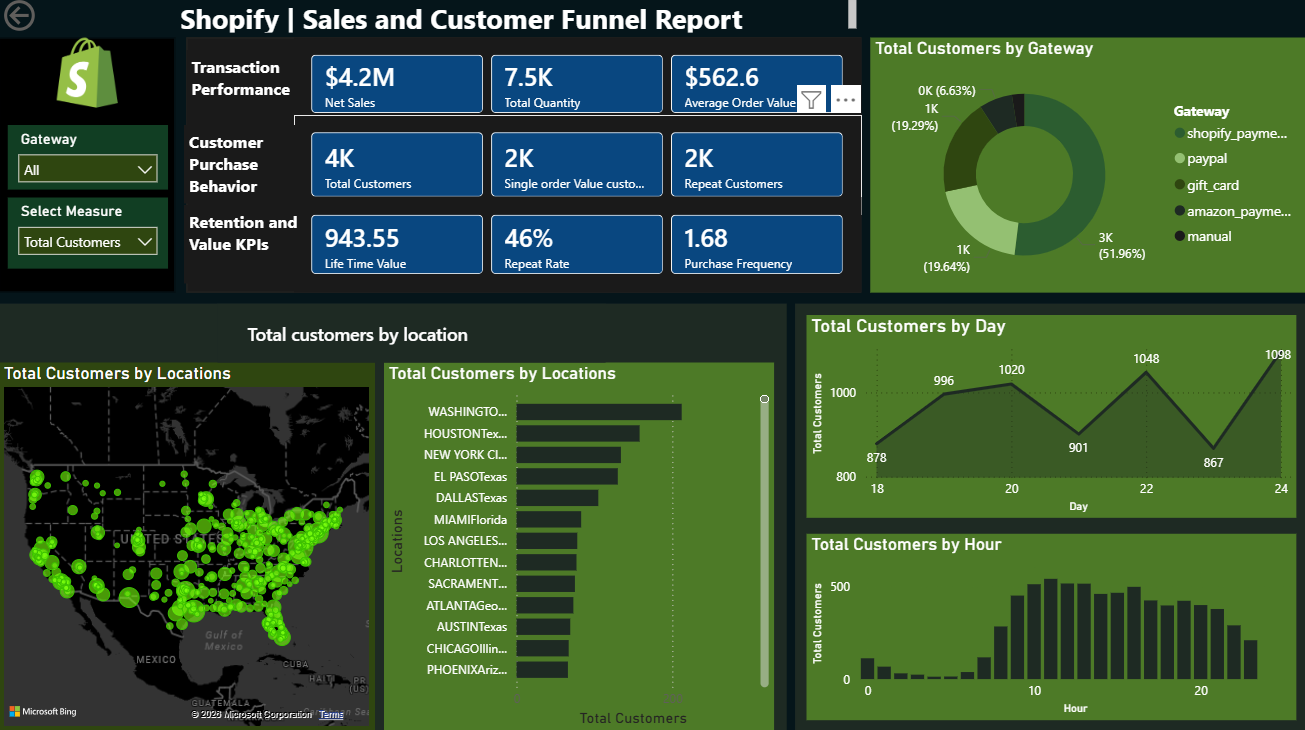

The page's visual inventory and layout, read from the dashboard file:
{"tool":"powerbi","page":{"name":"Page 1","canvas":[1280,720],"ordinal":0},"visuals":[{"type":"shape","box":[0,302,770.4,418.2],"z":0},{"type":"textbox","box":[172.4,0,671.3,41.6],"z":1000},{"type":"shape","box":[0,41.6,172.4,249.5],"z":2000},{"type":"shape","box":[183.4,41.6,660.3,249.5],"z":3000},{"type":"cardVisual","fields":{"Data":["shopify_sales.Net Sales","shopify_sales.Total Quantity","shopify_sales.Average Order Value"]},"box":[288.6,41.6,555.2,91.7],"z":4000},{"type":"textbox","box":[183.4,53.8,116.2,77],"z":5000},{"type":"cardVisual","fields":{"Data":["shopify_sales.Total Customers","shopify_sales.Single order Value customers","shopify_sales.Repeat Customers"]},"box":[288.6,117.4,555.2,97.8],"z":6000},{"type":"textbox","box":[181,127.2,122.3,77],"z":7000},{"type":"cardVisual","fields":{"Data":["shopify_sales.Life Time Value","shopify_sales.Repeat Rate","shopify_sales.Purchase Frequency"]},"box":[288.6,198.1,555.2,92.9],"z":8000},{"type":"textbox","box":[181,205.4,122.3,77],"z":9000},{"type":"slicer","fields":{"Values":["Select Measure.Select Measure"]},"box":[8.6,198.1,156.5,69.7],"z":10000},{"type":"map","fields":{"Size":["shopify_sales.Total Quantity"],"Category":["shopify_sales.Locations"]},"box":[0,359.5,366.8,360.7],"z":11000},{"type":"clusteredBarChart","fields":{"Y":["shopify_sales.Total Quantity"],"Category":["shopify_sales.Locations"]},"box":[376.6,359.5,381.5,360.7],"z":12000},{"type":"cardVisual","fields":{"Data":["Select Measure.Locations title"]},"box":[214,302,379.1,57.5],"z":13000},{"type":"shape","box":[778.9,302,501.4,418.2],"z":14000},{"type":"areaChart","fields":{"Y":["shopify_sales.Total Quantity"],"Category":["shopify_sales.Invoice Date.Variation.Date Hierarchy.Day"]},"box":[789.9,313,479.4,198.1],"z":15000},{"type":"columnChart","fields":{"Y":["shopify_sales.Total Quantity"],"Category":["shopify_sales.Hour"]},"box":[789.9,527,479.4,182.2],"z":16000},{"type":"donutChart","fields":{"Y":["shopify_sales.Total Quantity"],"Category":["shopify_sales.Gateway"]},"box":[852.3,41.6,428,249.5],"z":17000},{"type":"slicer","fields":{"Values":["shopify_sales.Gateway"]},"box":[8.6,127.2,156.5,63.6],"z":18000},{"type":"image","box":[19.6,41.6,133.3,68.5],"z":19000}]}

Visuals, with their boxes in screenshot pixels (x1, y1, x2, y2), scaled from the page's 1280x720 canvas onto the 1305x730 screenshot:
shape: 0 306 785 729
textbox: 176 0 860 42
shape: 0 42 176 295
shape: 187 42 860 295
cardVisual - shopify_sales.Net Sales x shopify_sales.Total Quantity: 294 42 860 135
textbox: 187 55 305 133
cardVisual - shopify_sales.Total Customers x shopify_sales.Single order Value customers: 294 119 860 218
textbox: 185 129 309 207
cardVisual - shopify_sales.Life Time Value x shopify_sales.Repeat Rate: 294 201 860 295
textbox: 185 208 309 286
slicer - Select Measure.Select Measure: 9 201 168 272
map - shopify_sales.Total Quantity x shopify_sales.Locations: 0 364 374 729
clusteredBarChart - shopify_sales.Total Quantity x shopify_sales.Locations: 384 364 773 729
cardVisual - Select Measure.Locations title: 218 306 605 364
shape: 794 306 1304 729
areaChart - shopify_sales.Total Quantity x shopify_sales.Invoice Date.Variation.Date Hierarchy.Day: 805 317 1294 518
columnChart - shopify_sales.Total Quantity x shopify_sales.Hour: 805 534 1294 719
donutChart - shopify_sales.Total Quantity x shopify_sales.Gateway: 869 42 1304 295
slicer - shopify_sales.Gateway: 9 129 168 193
image: 20 42 156 112
